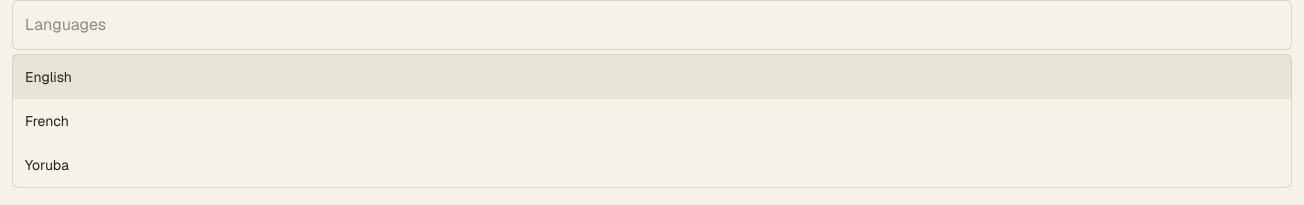
Test: SearchableMultiSelect (onboarding Languages) › selecting a language closes the list and keeps the language selected
The width and height of the screenshot is (1304, 205).
Step 1. Click the button "French" → (47, 121), box top-left (13, 99), bottom-right (1291, 143)
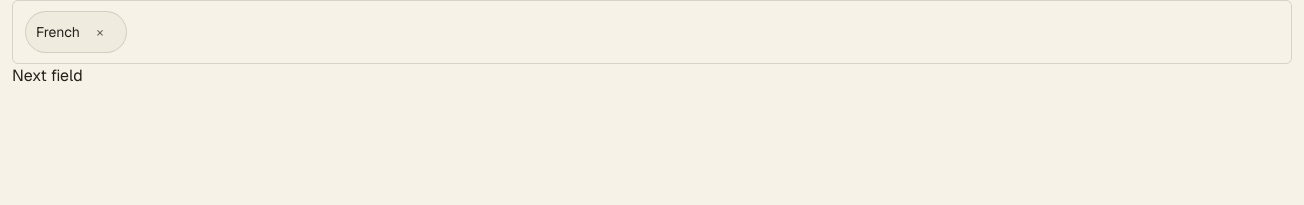
Check: the list is gone
